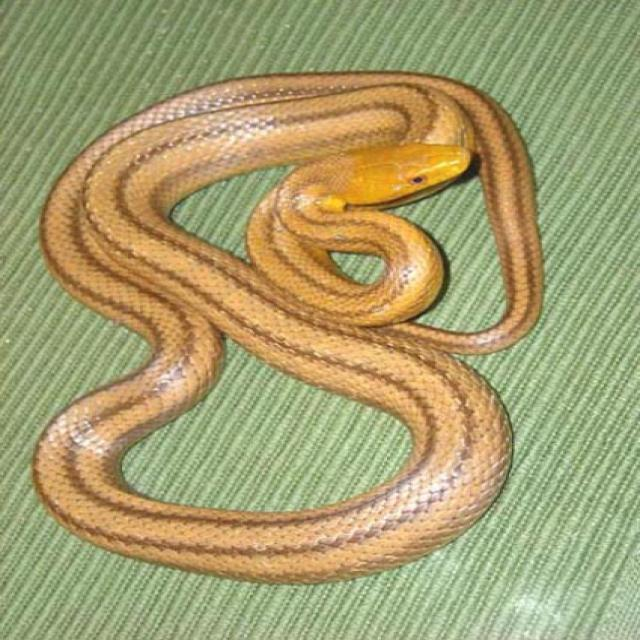Snake: (28, 69, 546, 585)
